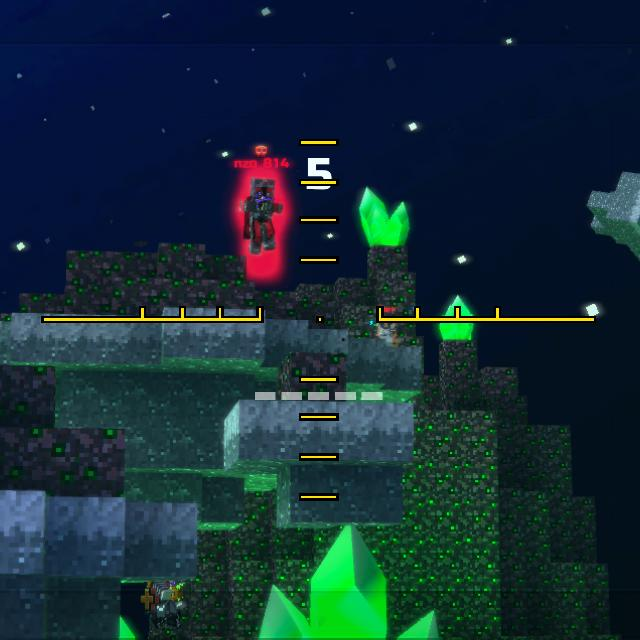Enemy: (240, 178, 282, 255)
